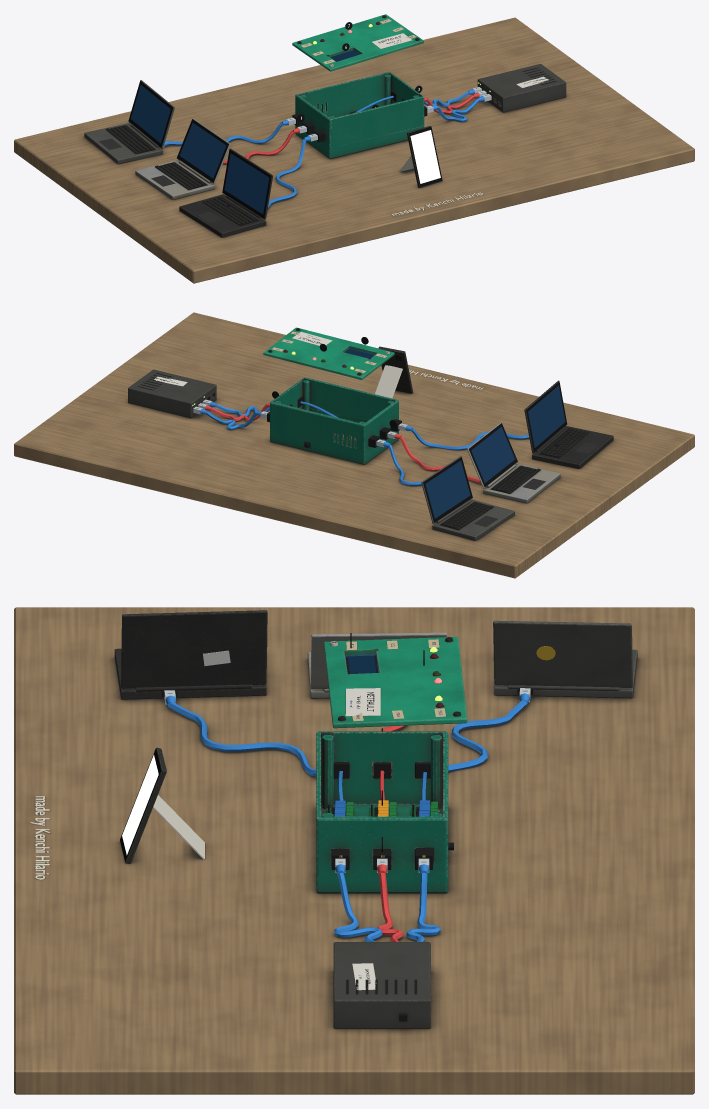
File: netfault_trainer.glb
3 views of the same model, one above another, from view 1: azimuth 30°, elevation 25°; view 2: azimuth 150°, elevation 25°; view 3: azimuth 270°, elevation 25° (orthographic). The views are drawn at different scales.
Parts seen in each view (by area): view 1: Desk, Enclosure_Shell, Enclosure_Lid, Enclosure_FrontWall, Switch_Body, Laptop3_Screen, Laptop2_Screen, Laptop3_Base, Laptop1_Screen, Laptop1_Base, Laptop2_Base, Phone_Screen (+9 smaller); view 2: Desk, Enclosure_Shell, Enclosure_Lid, Switch_Body, Enclosure_FrontWall, Laptop1_Screen, Laptop3_Base, Laptop2_Screen, Laptop3_Screen, Laptop1_Base, Laptop2_Base, Laptop3_Keys (+9 smaller); view 3: Desk, Enclosure_Shell, Laptop3_Lid, Enclosure_Lid, Laptop1_Lid, Switch_Body, Laptop3_Base, RJ45_Jacks, Laptop2_Lid, Laptop1_Base, Cable_L3_in, Cable_L1_in (+9 smaller).
Part boxes in pixels (x1,y1,x2,y2): Desk: (14,17,694,283); Enclosure_Shell: (295,72,424,158); Enclosure_Lid: (292,14,423,71); Enclosure_FrontWall: (330,96,423,148); Switch_Body: (477,64,566,112); Laptop3_Screen: (224,153,269,214); Laptop2_Screen: (179,123,226,178); Laptop3_Base: (179,194,266,237); Laptop1_Screen: (130,85,170,143); Laptop1_Base: (84,123,162,163); Laptop2_Base: (135,160,214,199); Phone_Screen: (410,130,440,183); Desk: (14,312,694,578); Enclosure_Shell: (270,377,398,464); Enclosure_Lid: (263,327,394,379); Switch_Body: (128,369,216,418); Enclosure_FrontWall: (304,377,397,421); Laptop1_Screen: (425,460,470,518); Laptop3_Base: (532,426,613,468); Laptop2_Screen: (471,427,515,482); Laptop3_Screen: (528,385,565,447); Laptop1_Base: (432,499,514,540); Laptop2_Base: (483,463,560,503); Laptop3_Keys: (539,428,598,458); Desk: (14,607,694,1094); Enclosure_Shell: (316,731,448,893); Laptop3_Lid: (121,610,267,688); Enclosure_Lid: (323,636,467,728); Laptop1_Lid: (493,620,632,687); Switch_Body: (333,942,430,1028); Laptop3_Base: (114,648,266,699); RJ45_Jacks: (331,762,432,869); Laptop2_Lid: (310,632,446,689); Laptop1_Base: (494,649,637,698); Cable_L3_in: (164,690,316,776); Cable_L1_in: (448,688,530,771).
Bounding box in the file's own units: 15.8 × 3.56 × 9.8.
75 materials, 12 textured.
